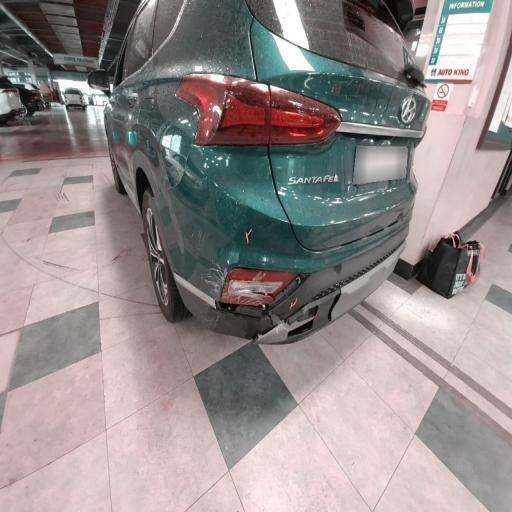broken: (198, 182, 356, 373)
scratch: (185, 225, 231, 317)
